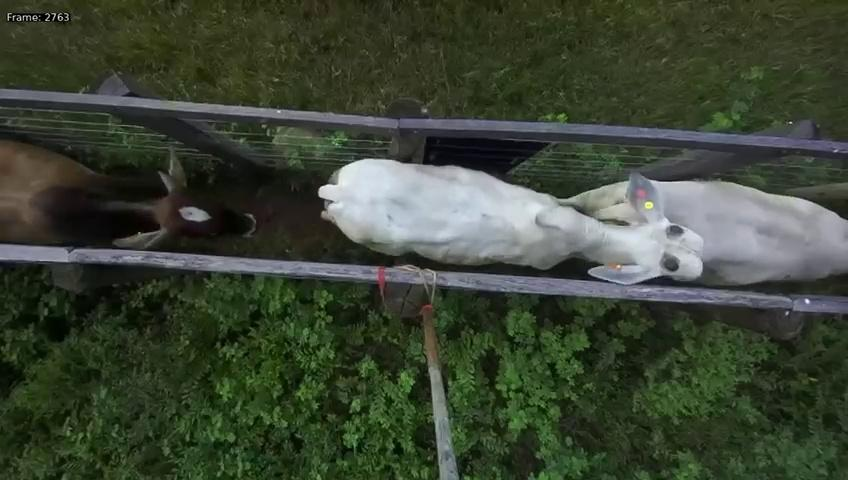cattle: (314, 148, 711, 288), (0, 128, 267, 264)
